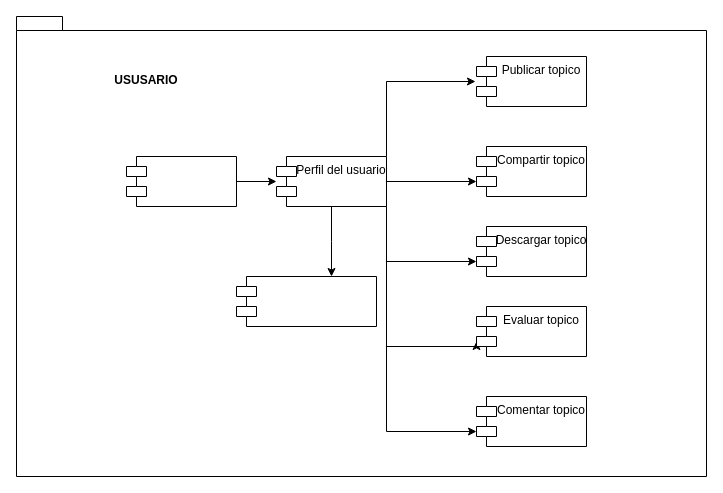
Some shapes in this 723 by 493 pixel diagram are drawn without their labels. Here are the shapes that lost their labels. From the top down, the centre of each, then its label:
At point 181,181: "Inicio de sesion".
At point 306,301: "Historial de busqueda".
